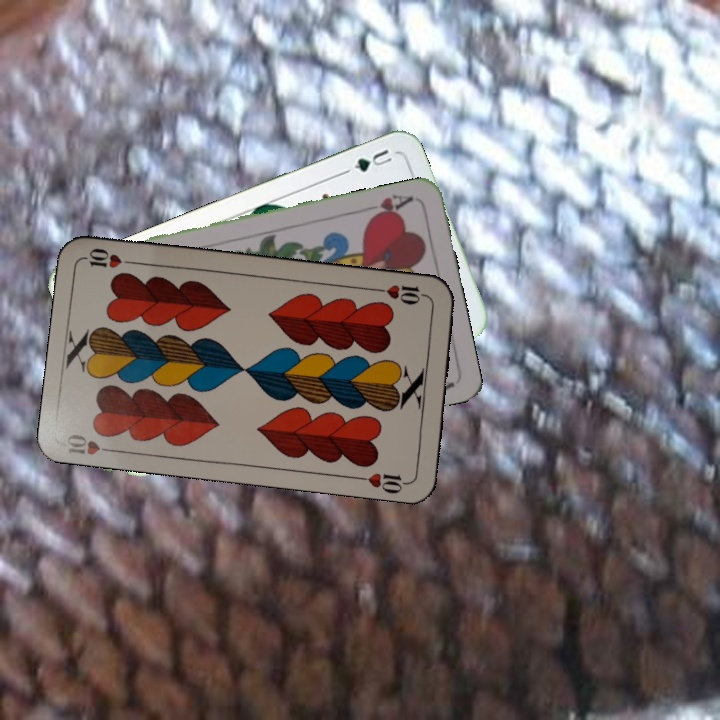GU: (349, 145, 396, 175)
H10: (61, 429, 120, 458), (371, 280, 430, 308)
HA: (359, 190, 416, 223)
